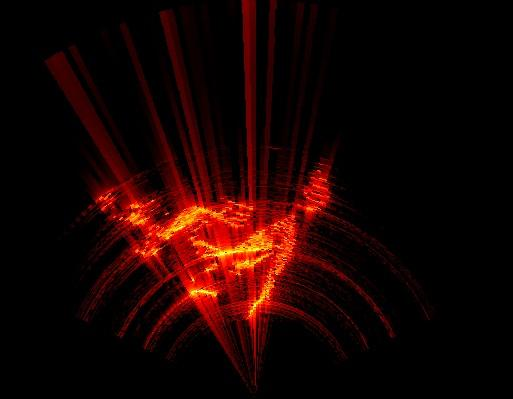shipwreck: (193, 221, 298, 317), (124, 201, 191, 255), (157, 207, 227, 238), (297, 170, 329, 227), (188, 287, 218, 296)
